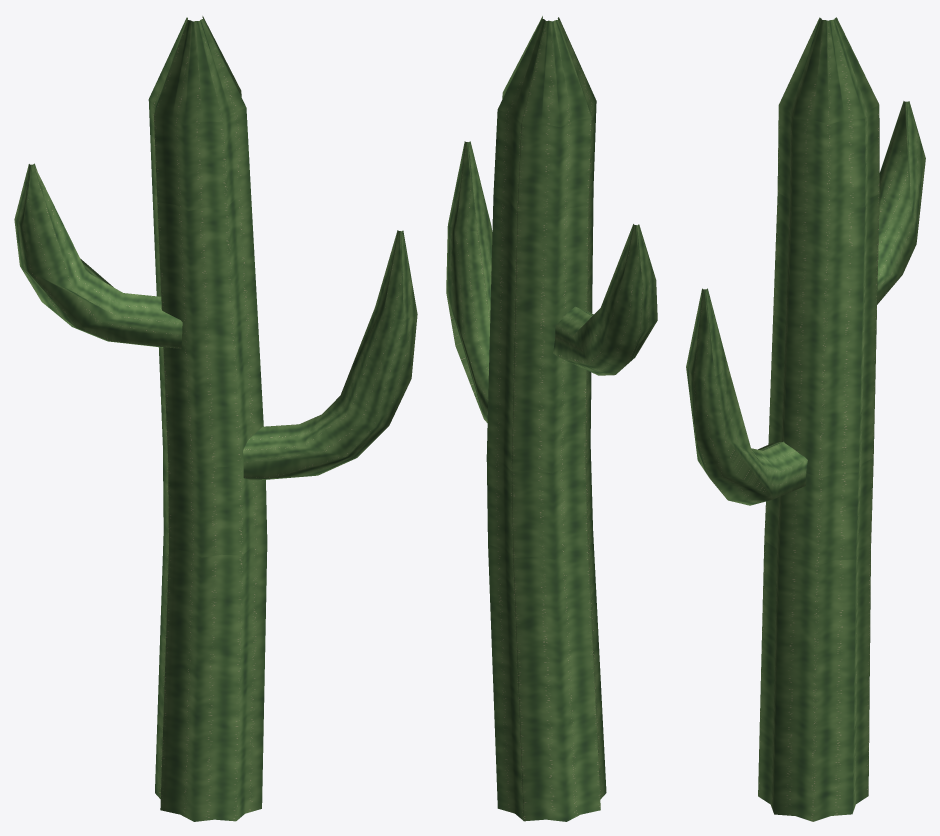
Rendered from bush_desert_cactus_a_lod2.glb.
3 renders of one model, left to right at view 1: azimuth 30°, elevation 25°; view 2: azimuth 150°, elevation 25°; view 3: azimuth 270°, elevation 25°, orthographic.
Parts seen in each view (by area): view 1: bush_desert_cactus_a; view 2: bush_desert_cactus_a; view 3: bush_desert_cactus_a.
Boxes of the visible parts, x1=… form: bush_desert_cactus_a: x1=14, y1=16, x2=417, y2=821; bush_desert_cactus_a: x1=446, y1=16, x2=657, y2=821; bush_desert_cactus_a: x1=686, y1=17, x2=925, y2=821.
Bounding box in the file's own units: 2.15 × 5.42 × 1.51.
1 material, 1 textured.
